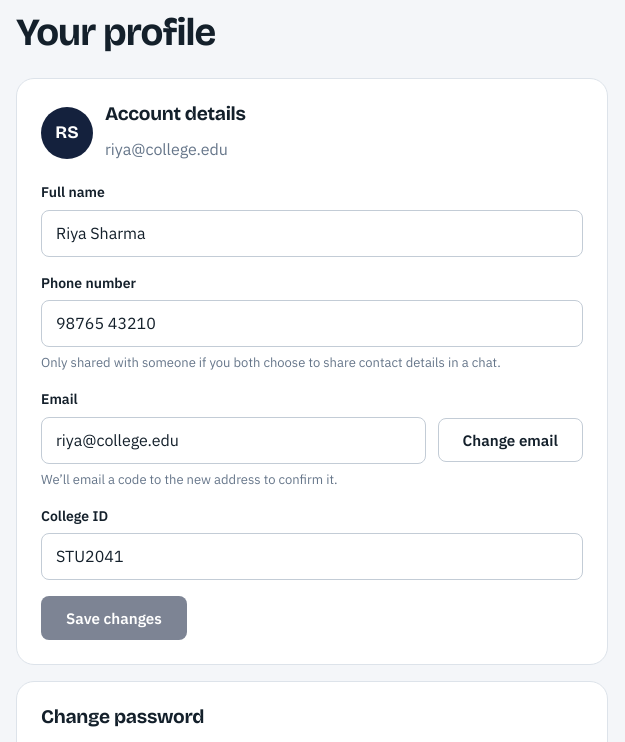
Scenario: Profile page › "Save changes" stays disabled until something changes
Expected: the button "Save changes" is disabled, [41,596,187,640]
In the field labelled "Full name": point(312, 233) [41,210,583,256], type "a"
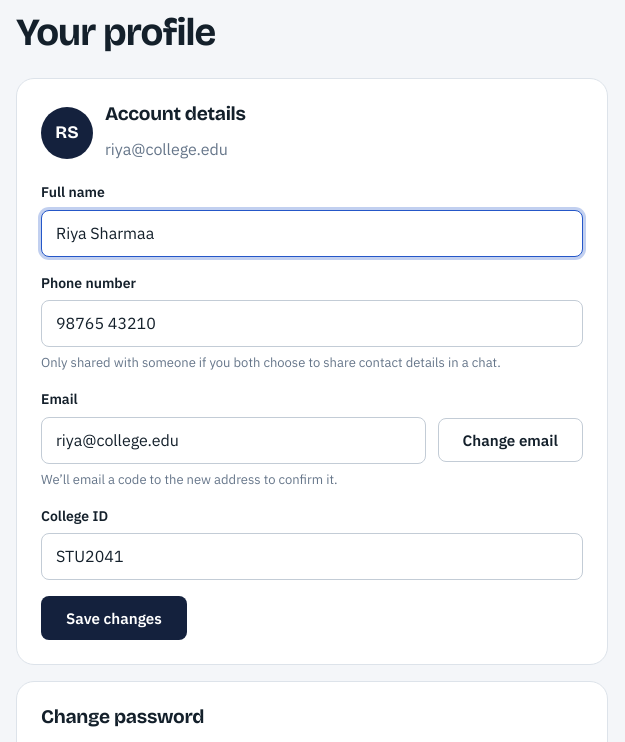
Expected: the button "Save changes" is enabled, [41,596,187,640]
